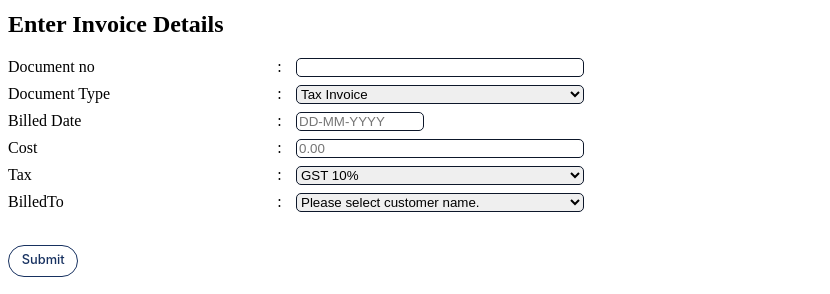
Test: Invoices Component: Form › Renders "Error Message" where credit note or overpayment is in positive
Type "INV001" into the field named "docNo" at (440, 67), box [296,58,584,77]
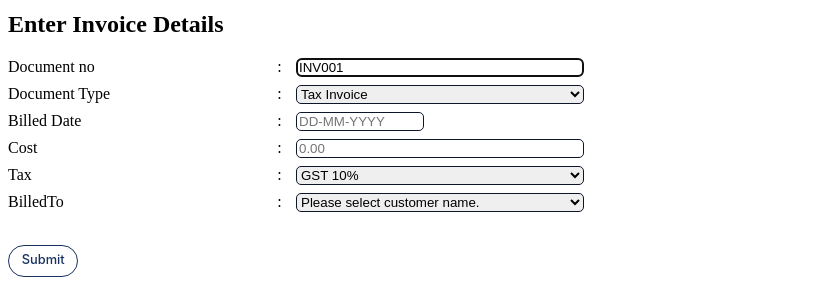
Type "30-04-2020" into the field named "date" at (360, 122), box [296,112,424,131]
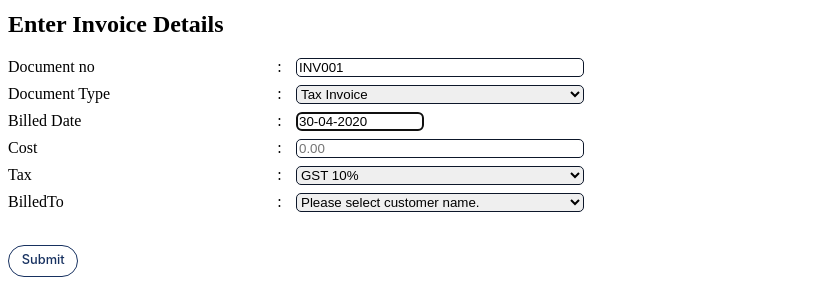
Select "Overpayment" in the dropdown with test id "docType" at (440, 94), box [296,85,584,104]
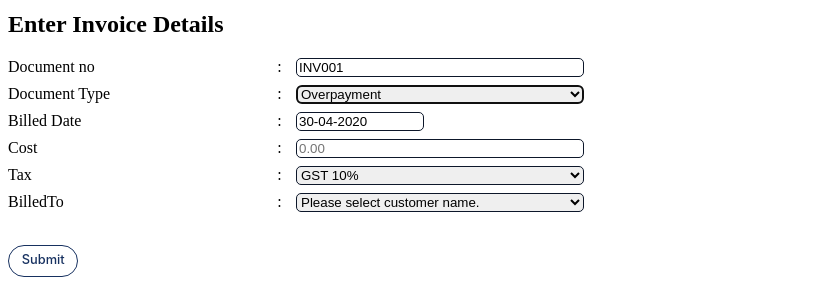
Type "1000" into the field named "cost" at (440, 149), box [296,139,584,158]
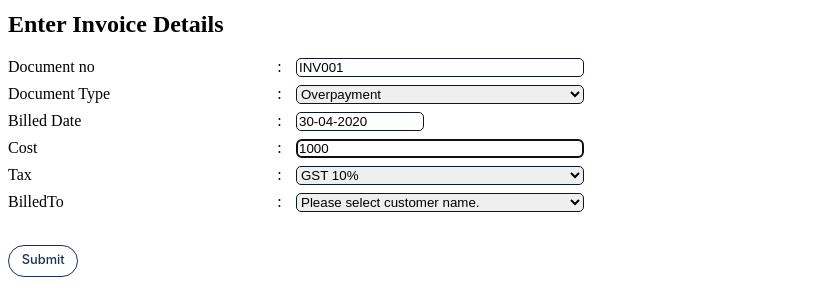
Click the button at (43, 261), box [8,245,78,277]
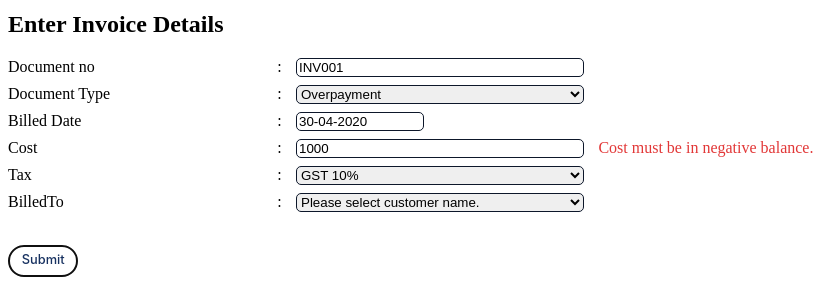
Expected: the text "Cost must be in negative balance." is shown, [598,139,814,156]
